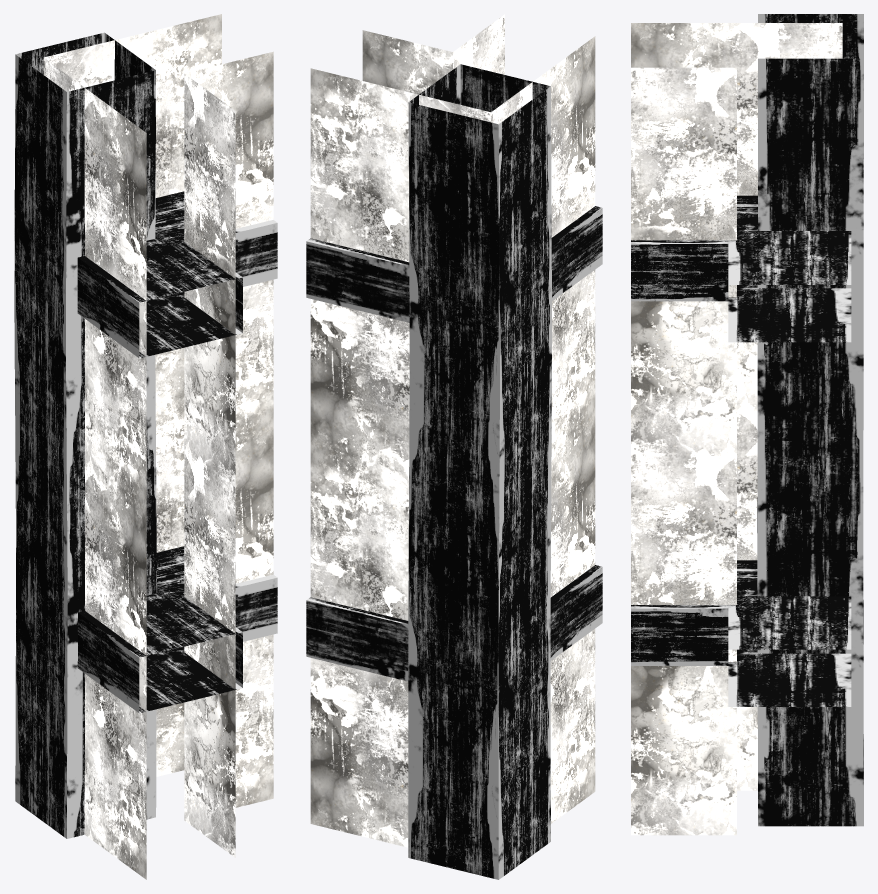
The model's file is SM_wall_A_corner_4_01_03.fbx.
The picture shows the model from 3 angles, left to right: view 1: azimuth 30°, elevation 25°; view 2: azimuth 150°, elevation 25°; view 3: azimuth 270°, elevation 25°; orthographic projection. The views are drawn at different scales.
Visible parts, largest first — view 1: SM_wall_A_corner_4_01_03_LOD0; view 2: SM_wall_A_corner_4_01_03_LOD0; view 3: SM_wall_A_corner_4_01_03_LOD0.
Part boxes in pixels (x1=…): SM_wall_A_corner_4_01_03_LOD0: x1=14, y1=14, x2=277, y2=879; SM_wall_A_corner_4_01_03_LOD0: x1=306, y1=14, x2=602, y2=879; SM_wall_A_corner_4_01_03_LOD0: x1=631, y1=14, x2=863, y2=835.
Bounding box in the file's own units: 111 × 110 × 400.
Materials: 3 (3 with a texture image).
